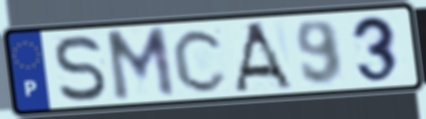3: (350, 12, 408, 86)
9: (293, 18, 345, 88)
A: (231, 20, 296, 93)
C: (170, 26, 230, 94)
M: (102, 24, 179, 105)
S: (53, 33, 109, 104)
